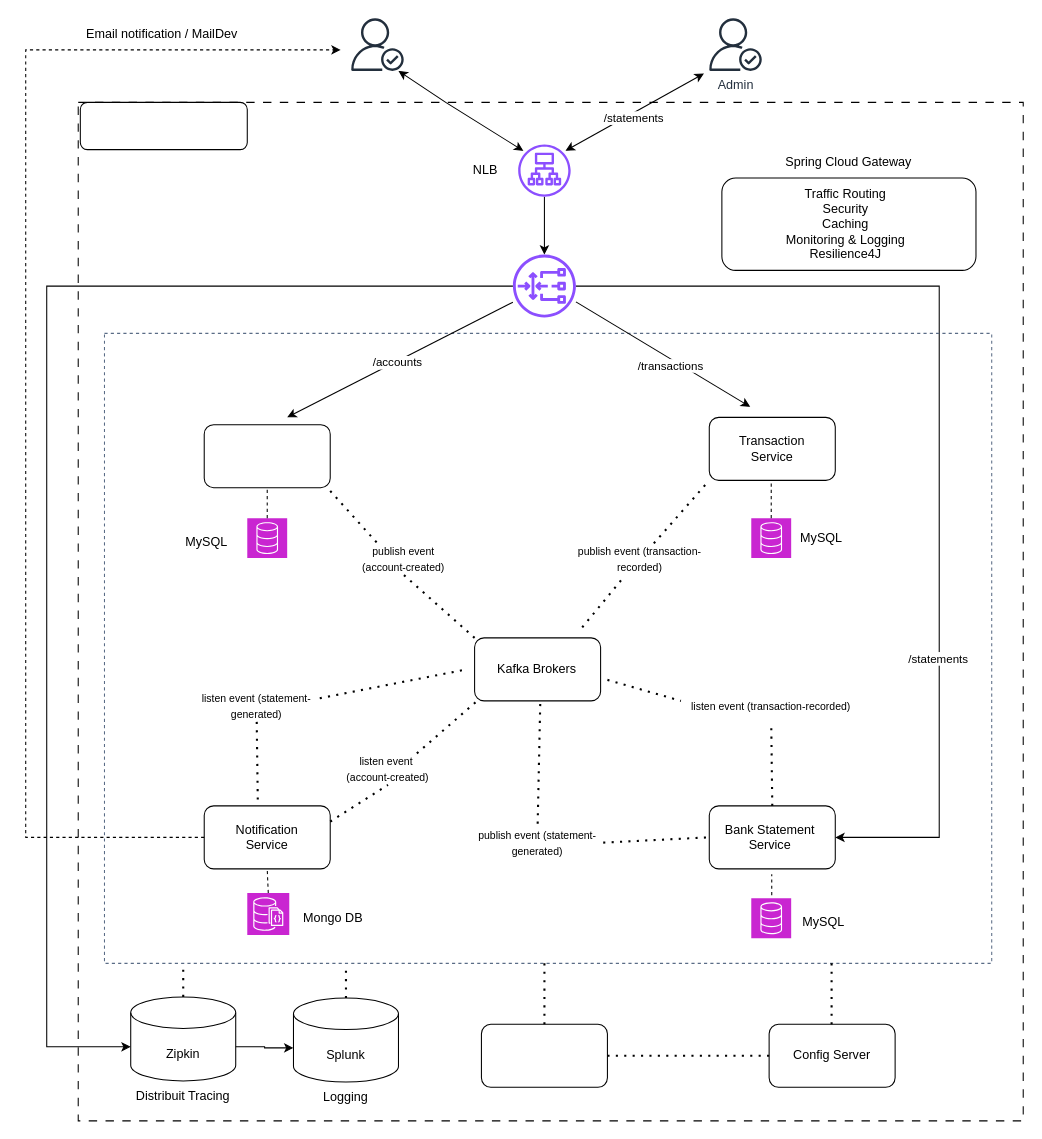
Some shapes in this 1042 by 1139 pixel diagram are drawn without their labels. Here are the shapes that lost their labels. From the top down, the box of each, then its label:
(351, 18, 403, 70): Client
(79, 101, 247, 150): Spring cloud microservice
(203, 424, 330, 488): Account Service
(480, 1023, 607, 1087): Eureka Server
